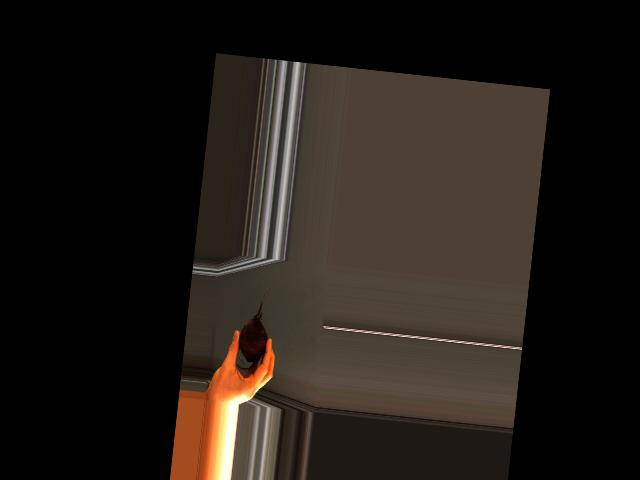beet: (235, 280, 272, 370)
